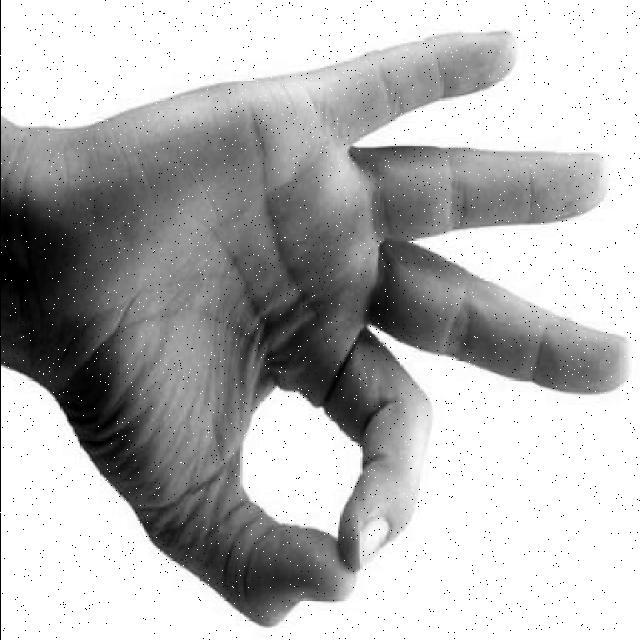no_apron: (33, 22, 640, 624)
